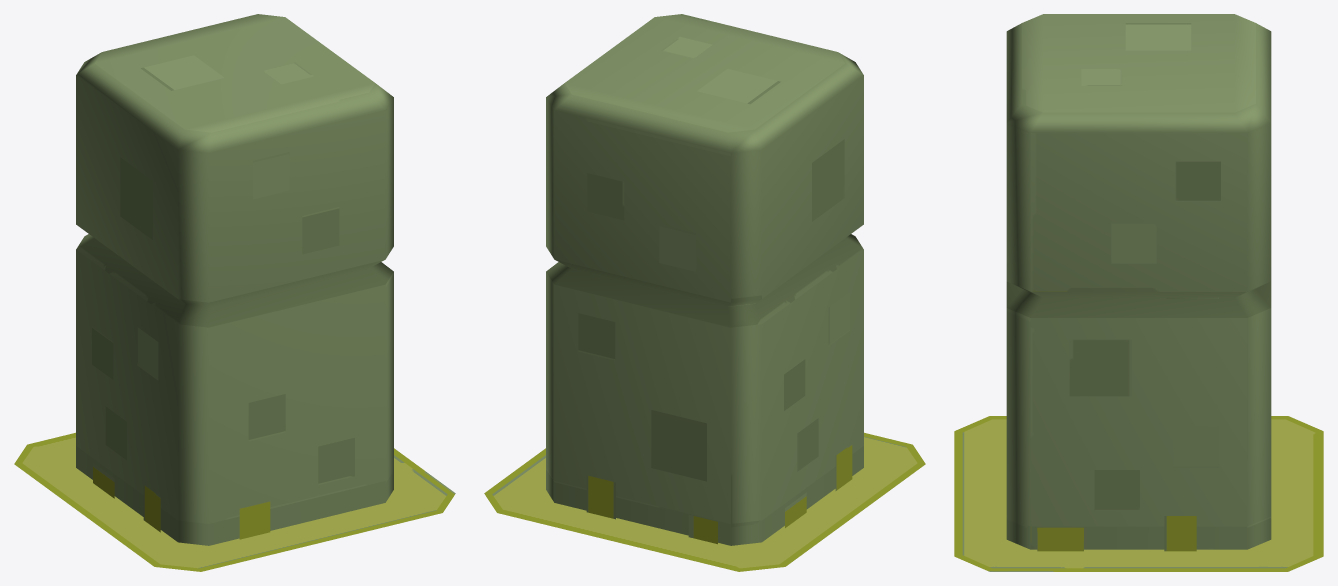
The model's file is B_grass2_rock00.fbx.
3 views of the same model, side by side, from view 1: azimuth 30°, elevation 25°; view 2: azimuth 150°, elevation 25°; view 3: azimuth 270°, elevation 25° (orthographic). The views are drawn at different scales.
Visible parts, largest first — view 1: model 1, model; view 2: model 1, model; view 3: model 1, model.
Boxes of the visible parts, <box> form: model 1: <box>14,14,455,571</box>; model: <box>22,436,447,568</box>; model 1: <box>484,14,925,571</box>; model: <box>492,436,917,568</box>; model 1: <box>954,14,1323,571</box>; model: <box>962,419,1315,568</box>.
Size of the model in its own units: 1.98 by 2.62 by 1.98.
